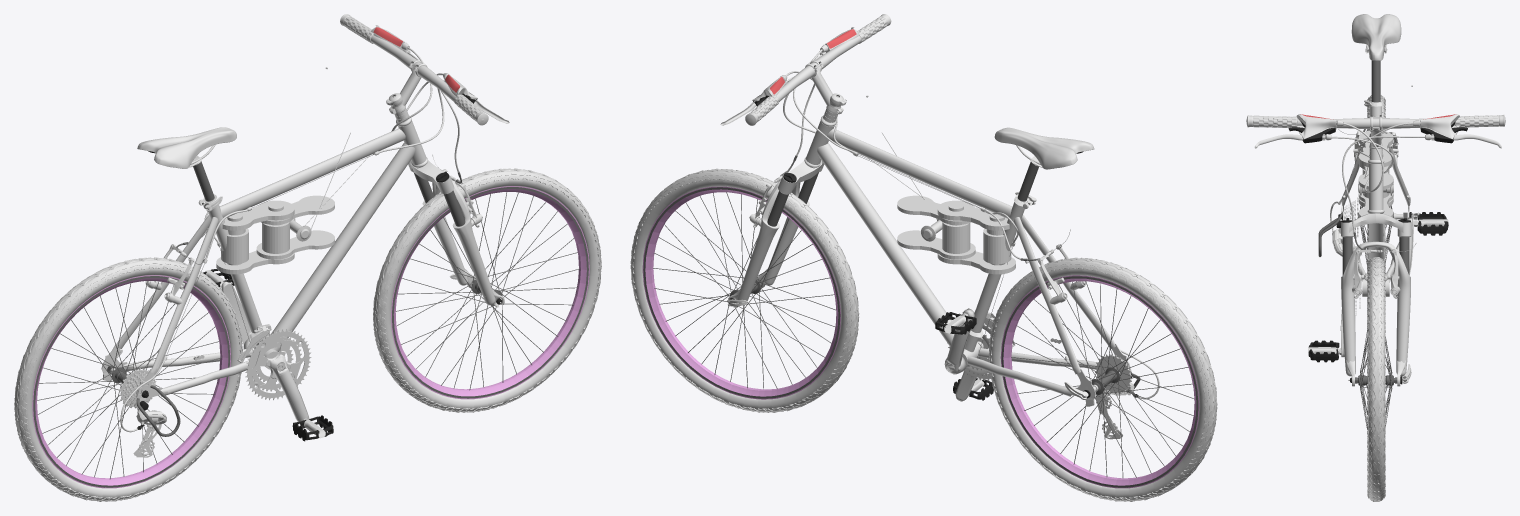
Rendered from rowercolor.fbx.
The picture shows the model from 3 angles, left to right: view 1: azimuth 30°, elevation 25°; view 2: azimuth 150°, elevation 25°; view 3: azimuth 270°, elevation 25°; orthographic projection. The views are drawn at different scales.
Visible parts, largest first — view 1: Plane, Plane.001, lancuch.001, Cylinder.001, Cylinder, Cylinder.017, Cylinder.005, siodło, Cylinder.018, Cylinder.019, Cylinder.021, Cylinder.007 (+10 smaller); view 2: Plane, Plane.001, lancuch.001, Cylinder.001, Cylinder, Cylinder.017, Cylinder.005, siodło, Cylinder.019, Cylinder.018, Cylinder.022, Cylinder.021 (+7 smaller); view 3: Plane, Cylinder.017, 112, siodło, lancuch.001, Cylinder.042, Cylinder.032, Cylinder.004, Cylinder.005, Cube, ped3.001, ped3 (+8 smaller).
Part boxes in pixels (x1=…): Plane: x1=373, y1=168, x2=601, y2=412; Plane.001: x1=14, y1=257, x2=242, y2=501; lancuch.001: x1=216, y1=195, x2=334, y2=274; Cylinder.001: x1=271, y1=143, x2=415, y2=351; Cylinder: x1=219, y1=128, x2=405, y2=217; Cylinder.017: x1=422, y1=179, x2=495, y2=305; Cylinder.005: x1=116, y1=214, x2=218, y2=373; siodło: x1=137, y1=127, x2=236, y2=168; Cylinder.018: x1=396, y1=192, x2=580, y2=390; Cylinder.019: x1=397, y1=192, x2=577, y2=388; Cylinder.021: x1=37, y1=281, x2=219, y2=477; Cylinder.007: x1=123, y1=348, x2=264, y2=396; Plane: x1=630, y1=168, x2=859, y2=412; Plane.001: x1=988, y1=257, x2=1217, y2=501; lancuch.001: x1=897, y1=195, x2=1015, y2=274; Cylinder.001: x1=817, y1=143, x2=955, y2=346; Cylinder: x1=827, y1=128, x2=1012, y2=218; Cylinder.017: x1=737, y1=180, x2=809, y2=303; Cylinder.005: x1=1014, y1=214, x2=1115, y2=374; siodło: x1=994, y1=127, x2=1094, y2=169; Cylinder.019: x1=654, y1=193, x2=834, y2=388; Cylinder.018: x1=653, y1=192, x2=835, y2=388; Cylinder.022: x1=1011, y1=281, x2=1193, y2=477; Cylinder.021: x1=1012, y1=282, x2=1193, y2=477; Plane: x1=1367, y1=257, x2=1385, y2=501; Cylinder.017: x1=1341, y1=241, x2=1410, y2=376; 112: x1=1254, y1=114, x2=1501, y2=148; siodło: x1=1351, y1=14, x2=1401, y2=60; lancuch.001: x1=1358, y1=130, x2=1393, y2=217; Cylinder.042: x1=1246, y1=115, x2=1505, y2=127; Cylinder.032: x1=1246, y1=118, x2=1454, y2=128; Cylinder.004: x1=1369, y1=163, x2=1383, y2=210; Cylinder.005: x1=1341, y1=129, x2=1410, y2=206; Cube: x1=1349, y1=213, x2=1403, y2=232; ped3.001: x1=1417, y1=212, x2=1448, y2=235; ped3: x1=1308, y1=340, x2=1339, y2=362.
Bounding box in the file's own units: 875 × 527 × 357.
